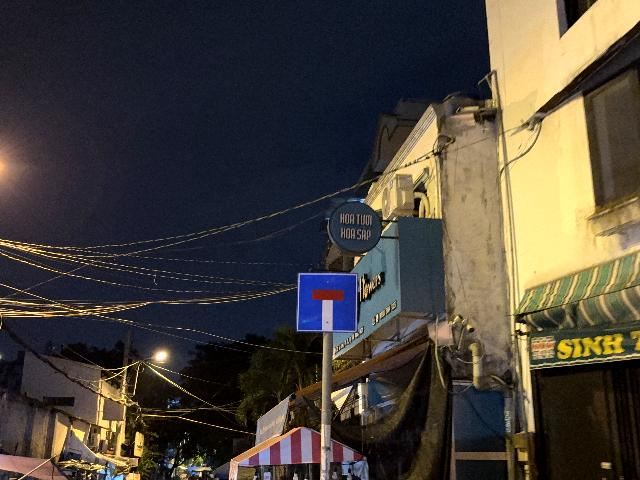duong-cut: (296, 272, 358, 333)
